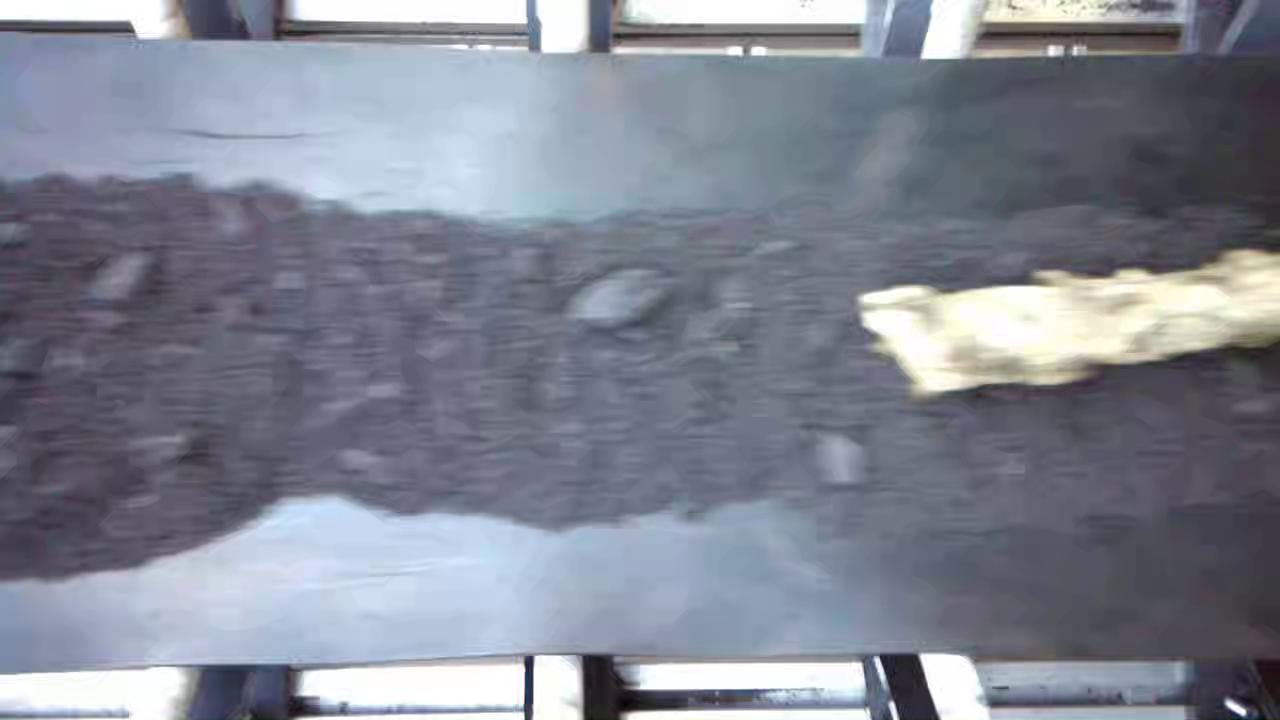conveyor: (7, 59, 1280, 652)
